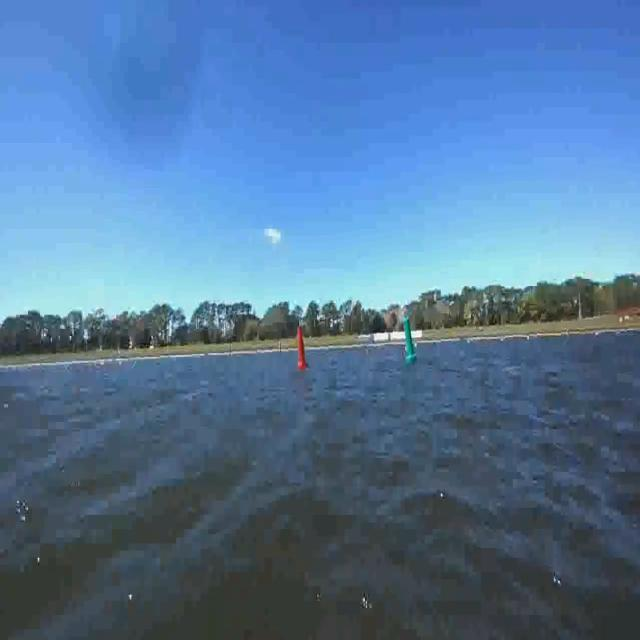green-column-buoy: (404, 317, 419, 363)
red-column-buoy: (295, 328, 307, 370)
